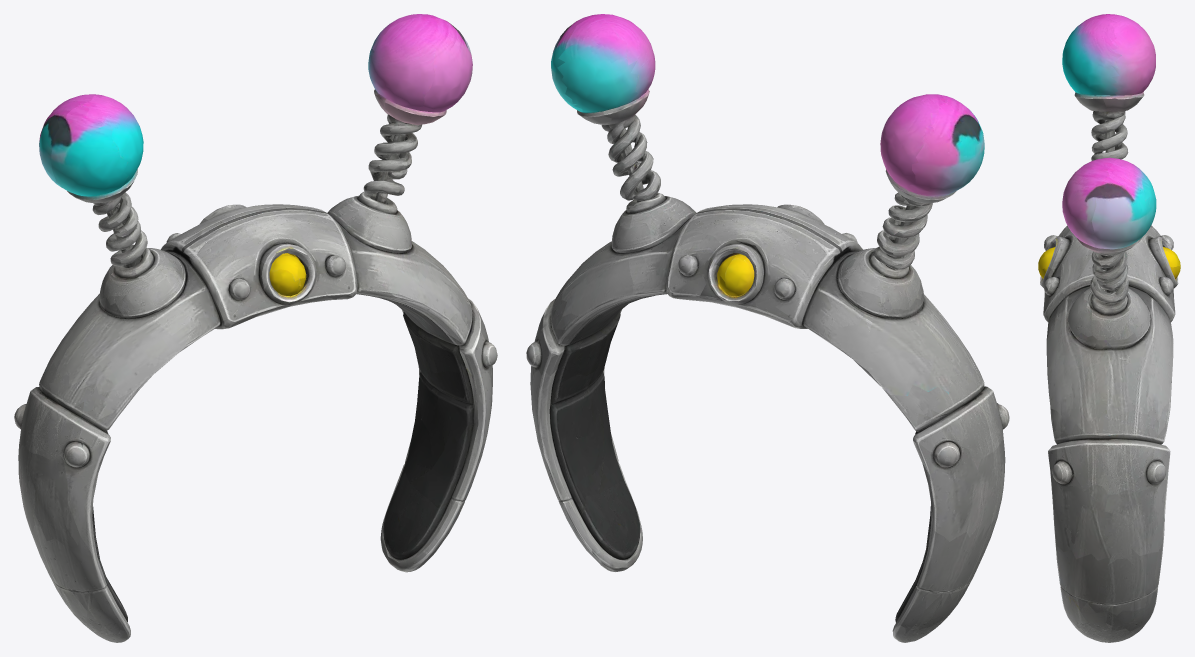
The model's file is robot_antennae.glb.
The picture shows the model from 3 angles, left to right: view 1: azimuth 30°, elevation 25°; view 2: azimuth 150°, elevation 25°; view 3: azimuth 270°, elevation 25°; orthographic projection. The views are drawn at different scales.
Visible parts, largest first — view 1: Mesh_0; view 2: Mesh_0; view 3: Mesh_0.
Boxes of the visible parts, x1=… form: Mesh_0: x1=14, y1=14, x2=497, y2=642; Mesh_0: x1=526, y1=14, x2=1009, y2=642; Mesh_0: x1=1038, y1=14, x2=1180, y2=642.
Size of the model in its own units: 0.8759 by 1 by 0.2646.
1 material, 1 textured.
